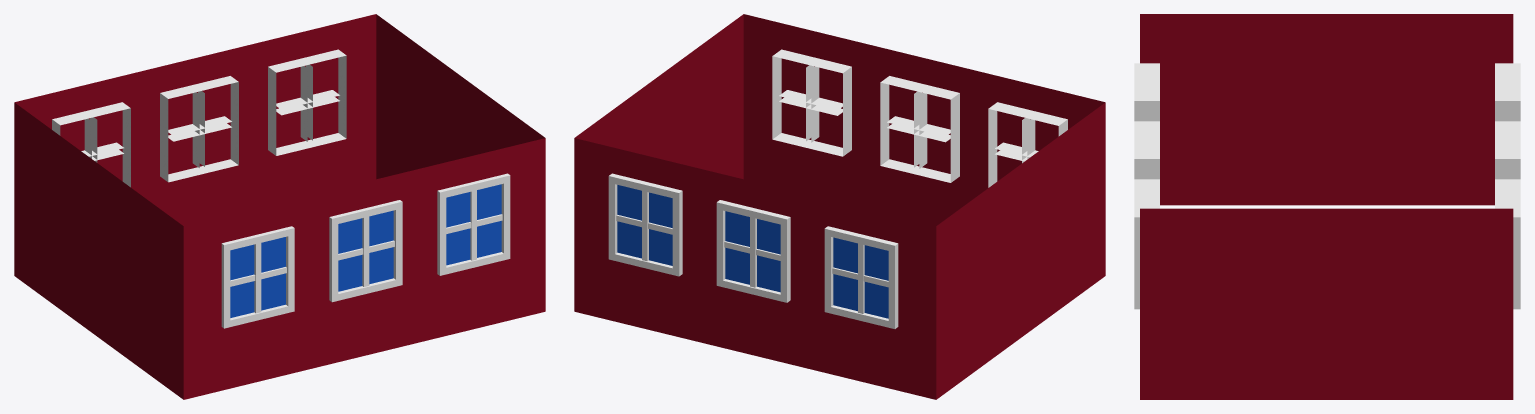
The model's file is CityBuildingB_02_flooor.fbx.
3 views of the same model, side by side, from view 1: azimuth 30°, elevation 25°; view 2: azimuth 150°, elevation 25°; view 3: azimuth 270°, elevation 25° (orthographic). The views are drawn at different scales.
Visible parts, largest first — view 1: CityBuildingB_02_flooor; view 2: CityBuildingB_02_flooor; view 3: CityBuildingB_02_flooor.
Boxes of the visible parts, x1=… form: CityBuildingB_02_flooor: x1=14, y1=14, x2=545, y2=399; CityBuildingB_02_flooor: x1=574, y1=14, x2=1105, y2=399; CityBuildingB_02_flooor: x1=1134, y1=14, x2=1520, y2=399.
Bounding box in the file's own units: 0.6706 × 0.3075 × 0.563.
